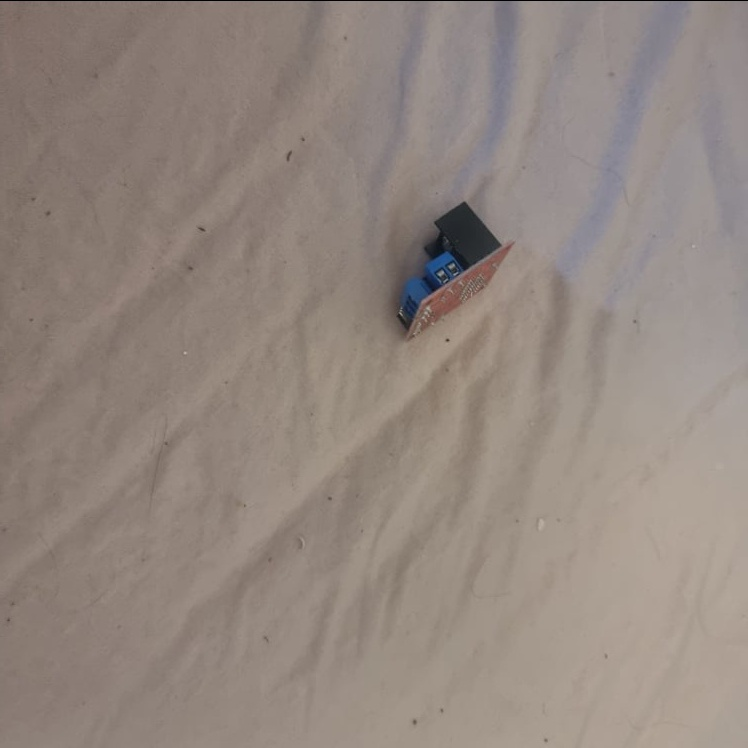MOTOR: (392, 199, 513, 337)
